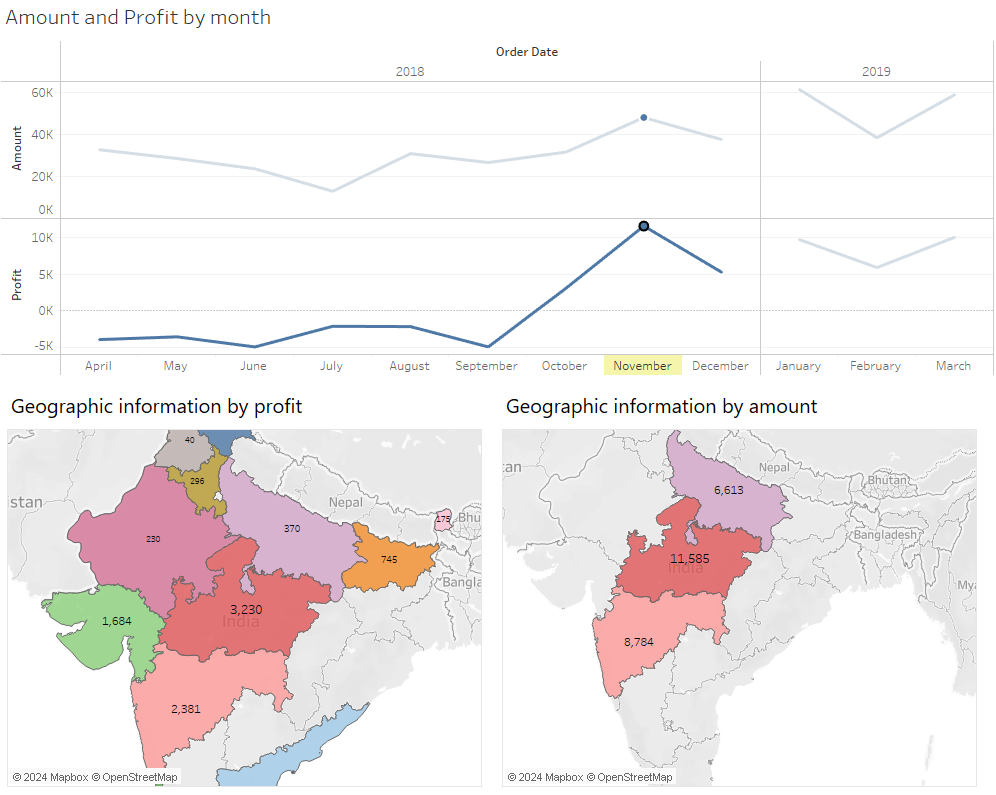

Layout of this report page (visuals, bound fields, positions):
{"tool":"tableau","page":{"name":"Dashboard 2","canvas":[1000,800],"ordinal":1},"visuals":[{"type":"worksheet","title":"Sheet 3","mark":"Automatic","rows":["Amount","Profit"],"cols":["Order Date","Order Date"],"box":[1,0,993,378]},{"type":"worksheet","title":"Sheet 5","mark":"Multipolygon","box":[7,389,475,400]},{"type":"worksheet","title":"Sheet 4","mark":"Multipolygon","box":[502,389,475,400]}]}

Visuals, with their boxes in screenshot pixels (x1, y1, x2, y2), scaled from the page's 1000x800 canvas onto the 996x795 screenshot:
"Sheet 3" worksheet: 1, 0, 990, 376
"Sheet 5" worksheet (Multipolygon marks): 7, 387, 480, 784
"Sheet 4" worksheet (Multipolygon marks): 500, 387, 973, 784
